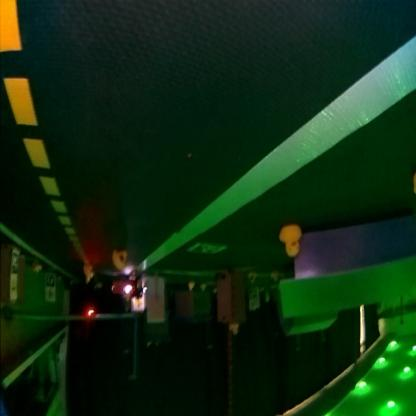Duckie: (280, 226, 302, 258), (115, 250, 128, 272), (84, 264, 96, 280), (32, 264, 42, 274)
QR code: (188, 244, 226, 256), (47, 276, 56, 286)
Traffic light: (88, 310, 96, 322)
